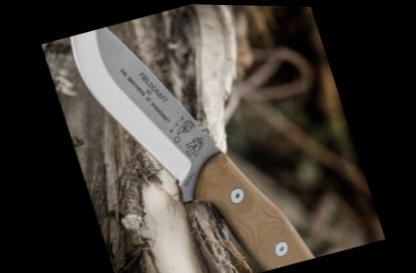knife: (57, 2, 245, 228)
